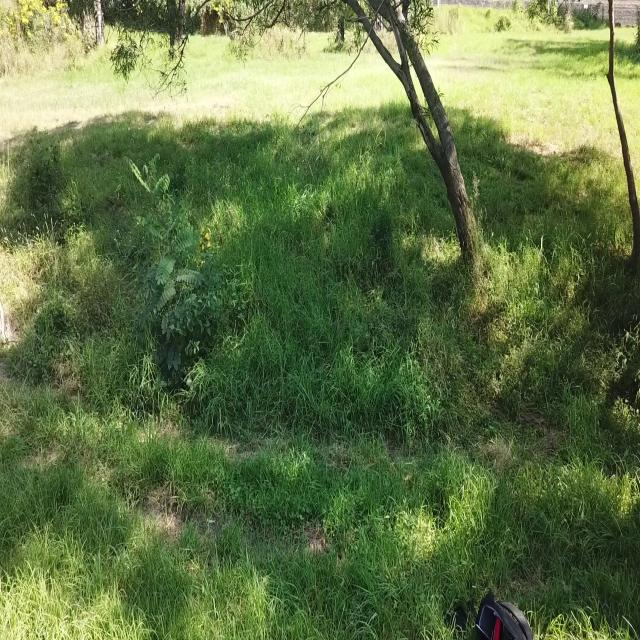Mysore-Thorn-Weed: (112, 157, 204, 376)
